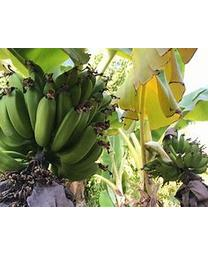banana: (0, 56, 112, 181), (142, 126, 207, 178)
